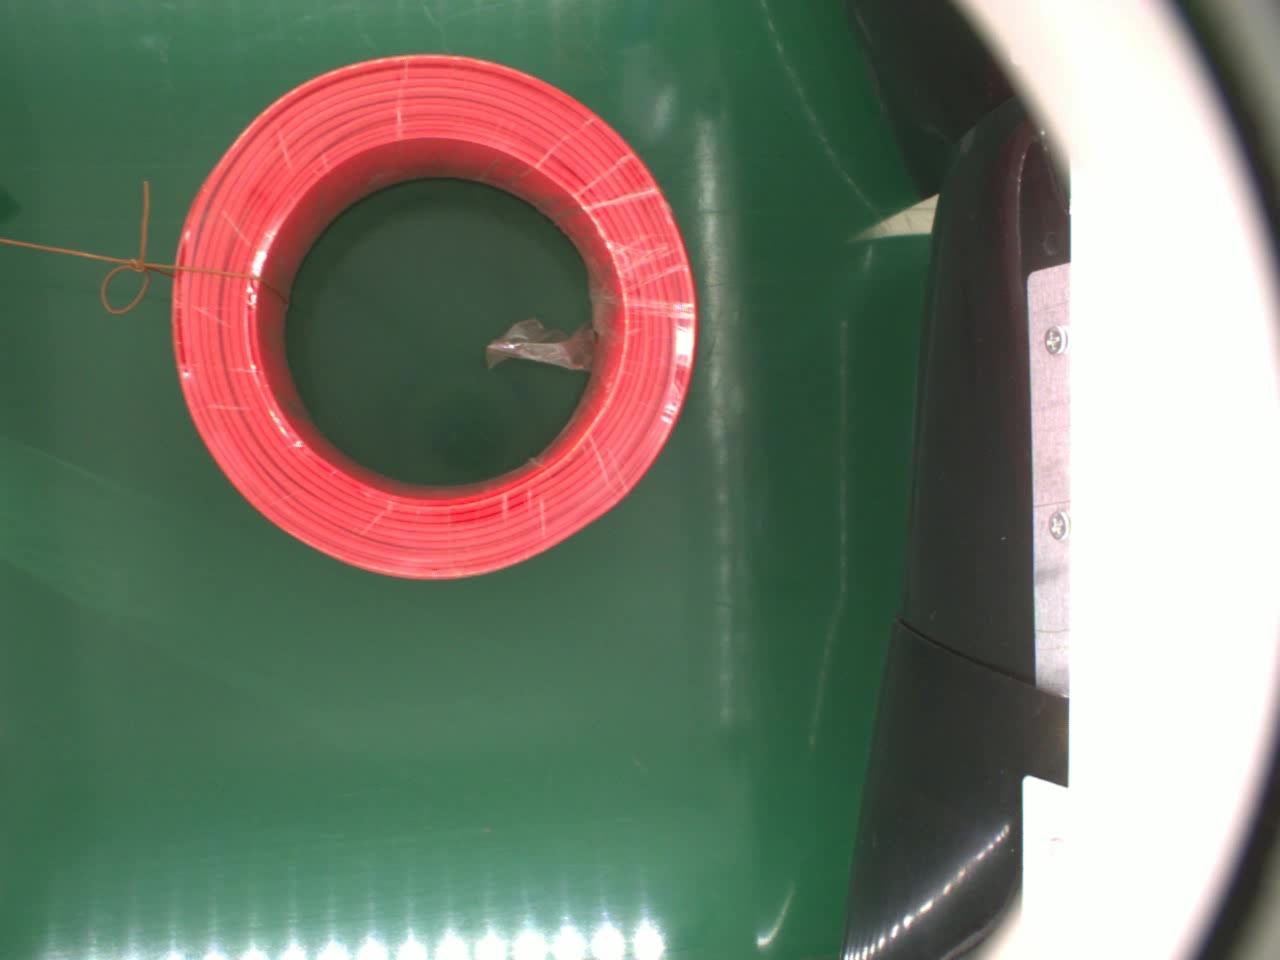red: (166, 46, 703, 581)
